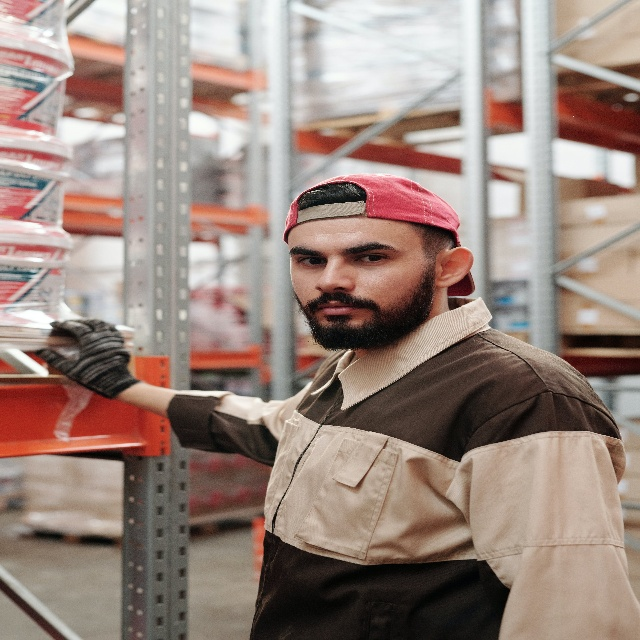Guantes: (34, 317, 140, 399)
